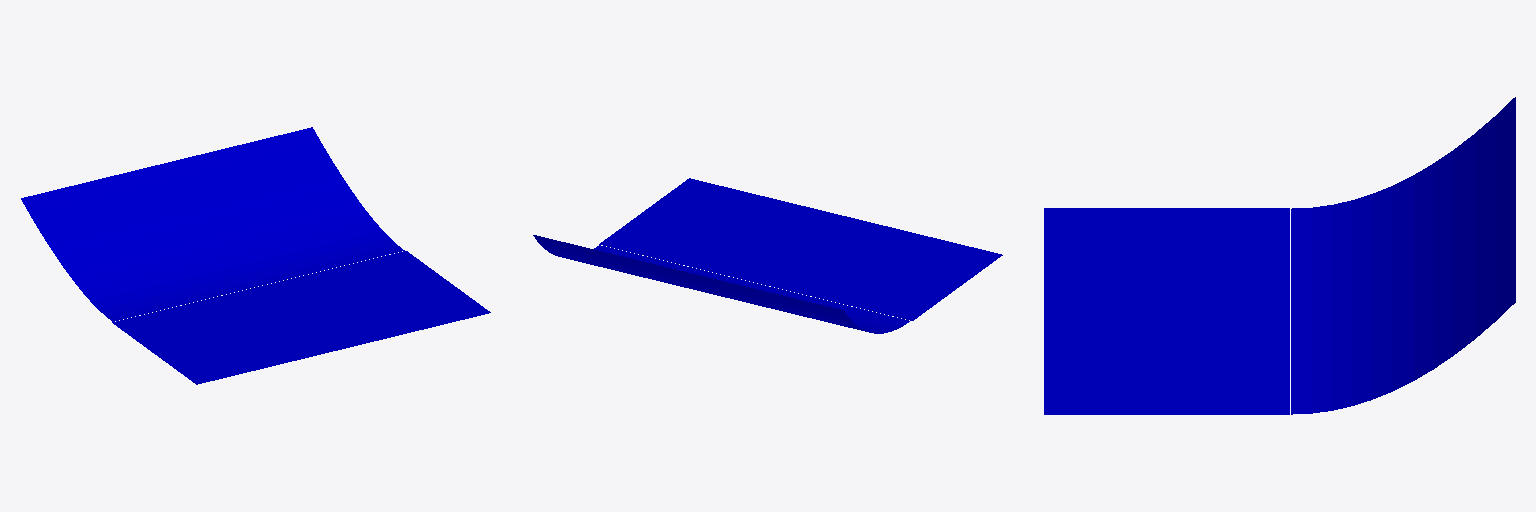
The robot description file, URDF, robot "Mesh":
<?xml version="1.0"?>
<robot name="Mesh">
  <link name="world">
		<visual>
			<origin xyz="0 0 0" rpy="0 0 0"/>
			<geometry>
				<mesh filename="package://gcop_ros_bullet/urdf/meshes/simple_mesh2.dae"/>
			</geometry>
      <material name="blue">
        <color rgba="0 0 0.8 1"/>
      </material>
		</visual>
	</link>
</robot>

--- Facts derived from the render (not from the file) ---
Views: 3 orthographic renders of the robot side by side, from view 1: azimuth 30°, elevation 25°; view 2: azimuth 150°, elevation 25°; view 3: azimuth 270°, elevation 25°.
Robot: Mesh — 1 links, 0 joints (none); root link world; default pose: every joint at zero.
Visible links, largest first — view 1: world; view 2: world; view 3: world.
Link boxes in pixels (<box>): world: <box>21,127,490,384</box>; world: <box>533,178,1002,333</box>; world: <box>1044,97,1515,414</box>.
Bounding box of the posed robot: 10.45 × 9.58 × 2.28 m (x, y, z).
Meshes: 1 distinct files referenced, 1 mesh visuals loaded (1 Collada DAE).